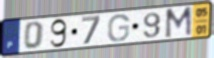0: (23, 20, 45, 51)
7: (80, 14, 103, 46)
9: (50, 18, 69, 49), (142, 11, 162, 38)
G: (107, 13, 131, 43)
M: (164, 5, 194, 41)
